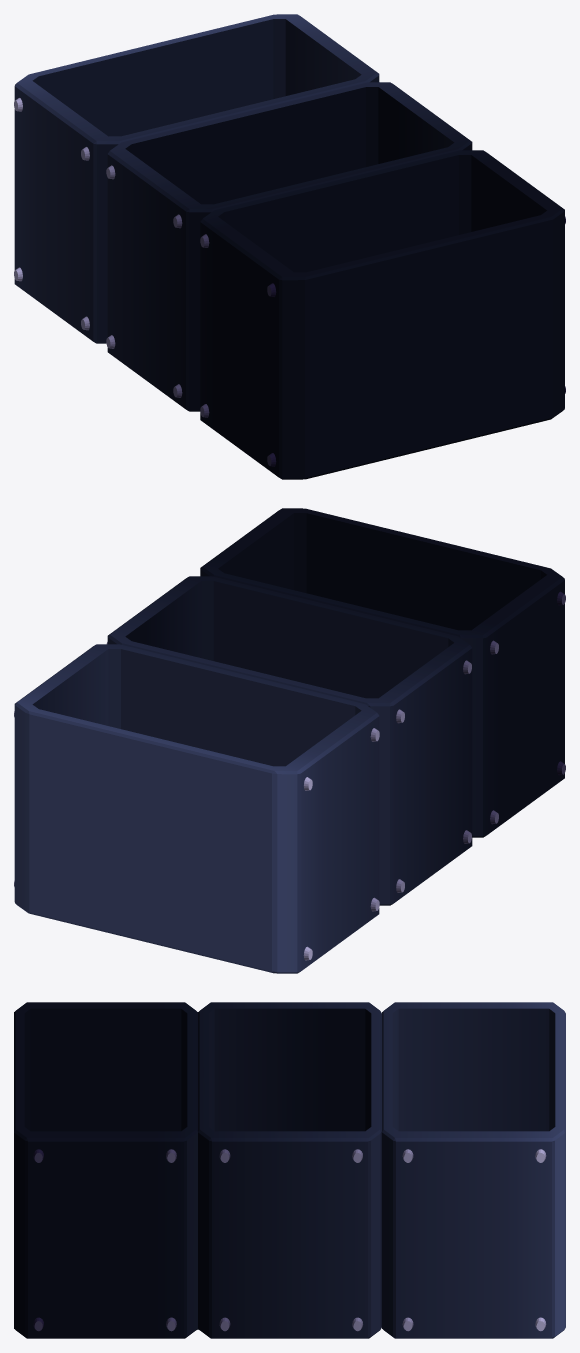
Rendered from Shelf1.fbx.
The picture shows the model from 3 angles, top to bottom: view 1: azimuth 30°, elevation 25°; view 2: azimuth 150°, elevation 25°; view 3: azimuth 270°, elevation 25°; orthographic projection.
Visible parts, largest first — view 1: Shelf.045; view 2: Shelf.045; view 3: Shelf.045.
Part boxes in pixels (x1,y1,x2,y2): Shelf.045: (14, 14, 565, 479); Shelf.045: (14, 508, 565, 973); Shelf.045: (14, 1002, 565, 1338).
Bounding box in the file's own units: 64.34 × 42.28 × 105.
1 material, 1 textured.
